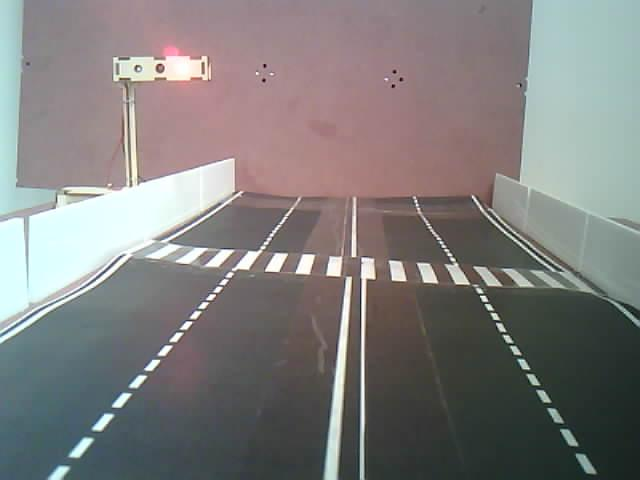crosswalk: (154, 238, 613, 297)
red: (110, 45, 214, 138)
